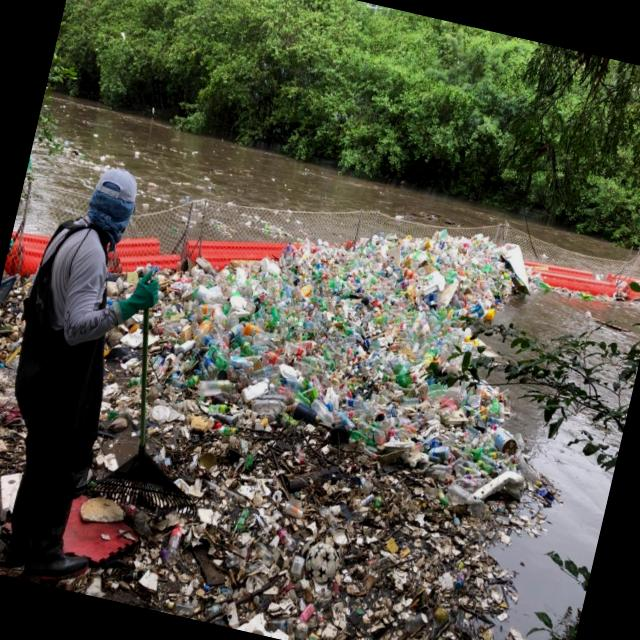garbage: (84, 164, 605, 640)
